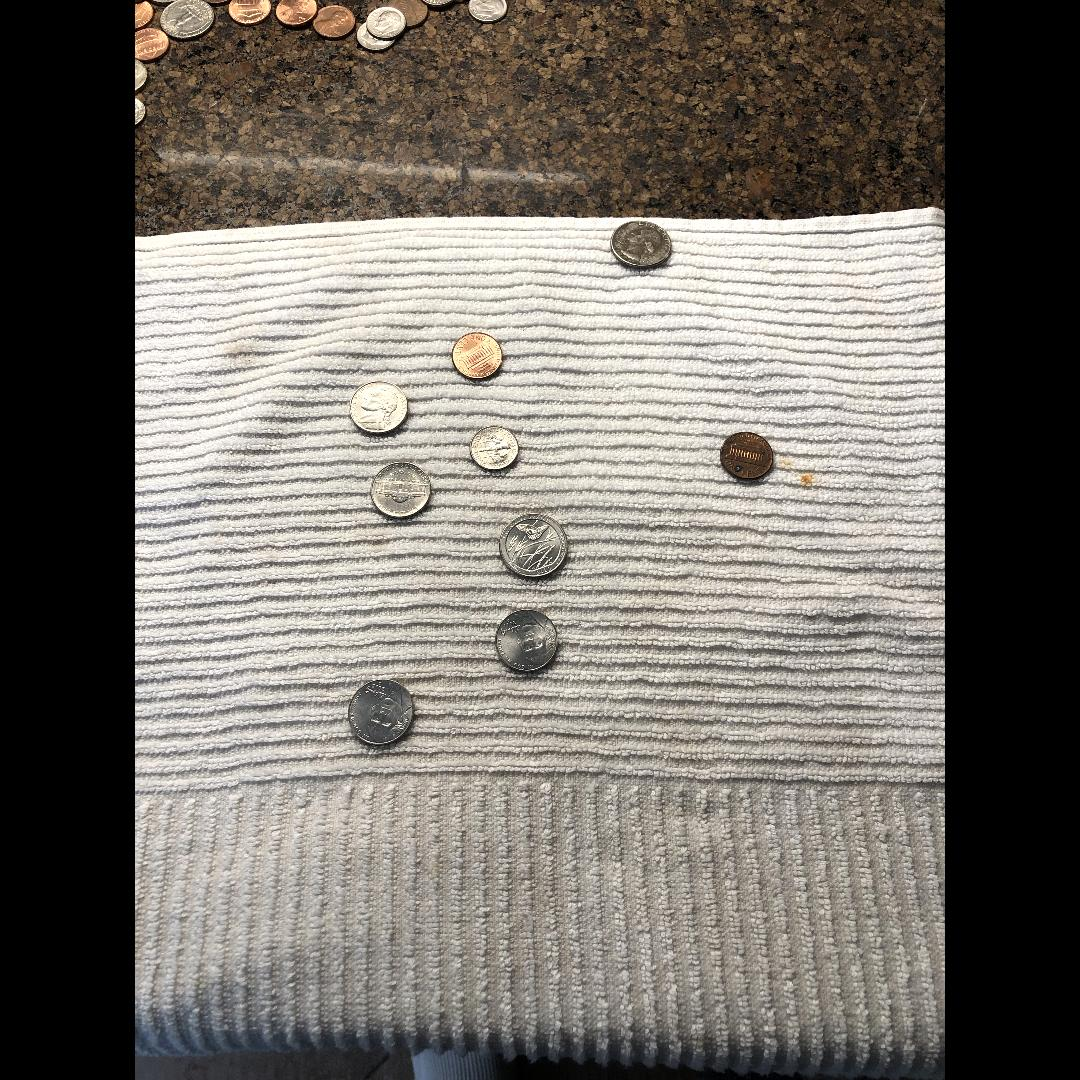Dime: (471, 423, 519, 473)
Nickel: (348, 676, 415, 752), (492, 608, 564, 678), (372, 458, 435, 520), (350, 379, 408, 436)
Penny: (716, 428, 776, 484), (448, 330, 506, 382)
Quarter: (500, 511, 574, 583), (608, 219, 678, 272)
